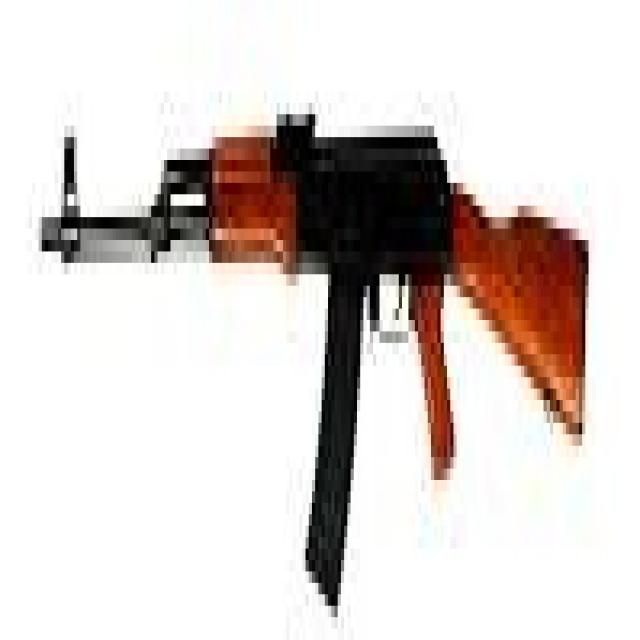rifle: (36, 94, 593, 628)
